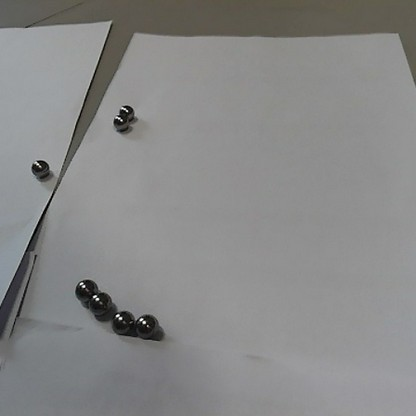ironball: (74, 277, 95, 302), (90, 292, 111, 315), (135, 314, 155, 337), (113, 311, 132, 334), (31, 159, 47, 178), (112, 114, 127, 131), (119, 104, 134, 119)
